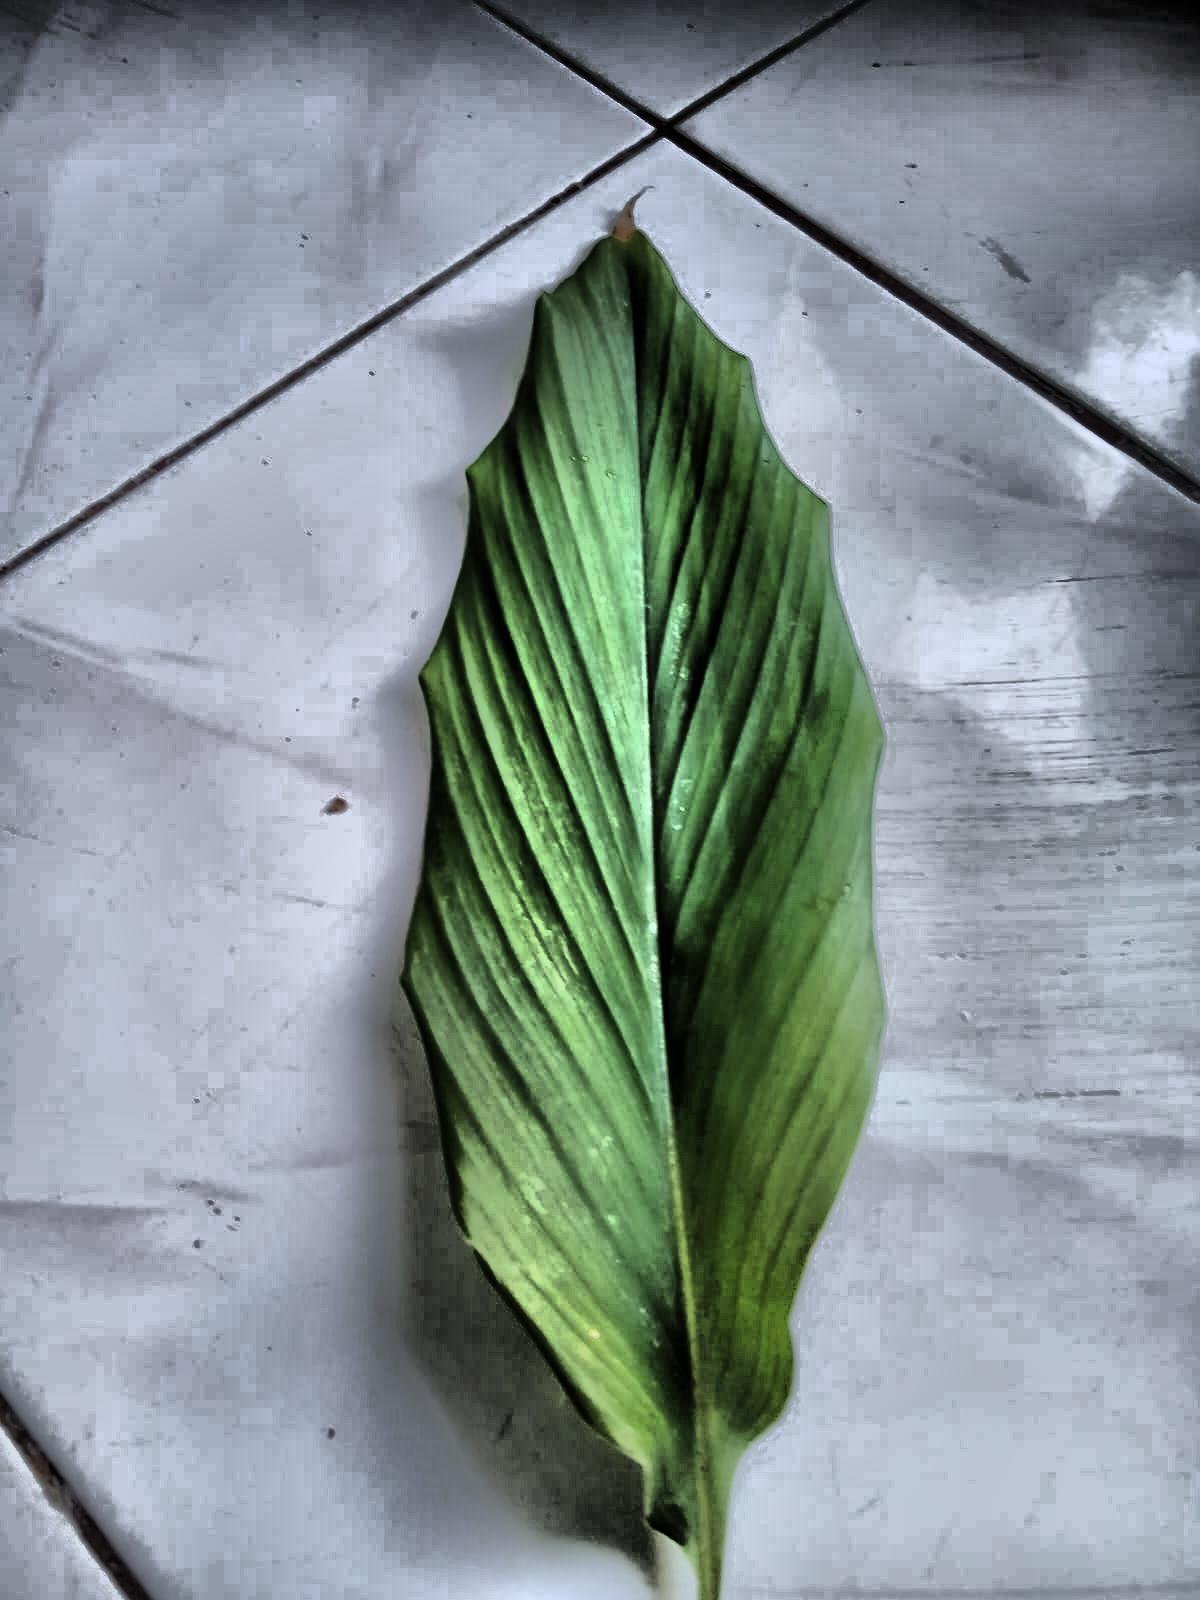daun kunyit: (405, 231, 884, 1599)
